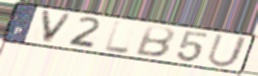2: (66, 16, 101, 49)
5: (175, 29, 211, 63)
B: (133, 24, 176, 59)
L: (103, 19, 131, 55)
U: (205, 32, 250, 68)
V: (39, 8, 75, 45)
